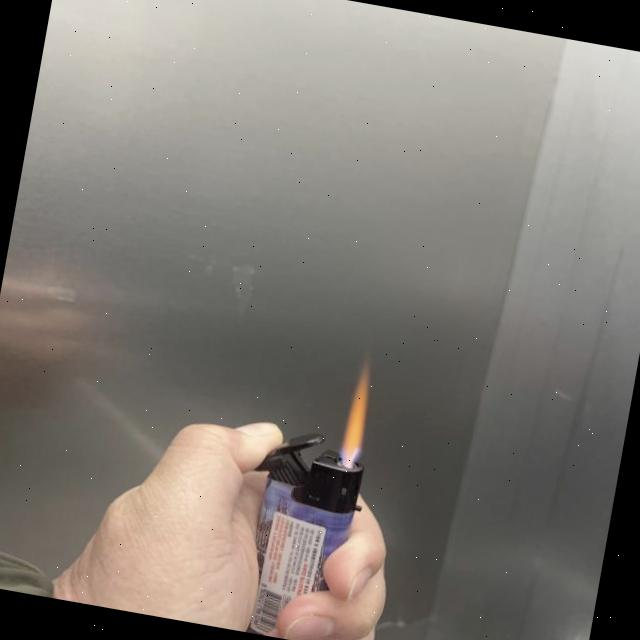fire: (336, 359, 377, 466)
